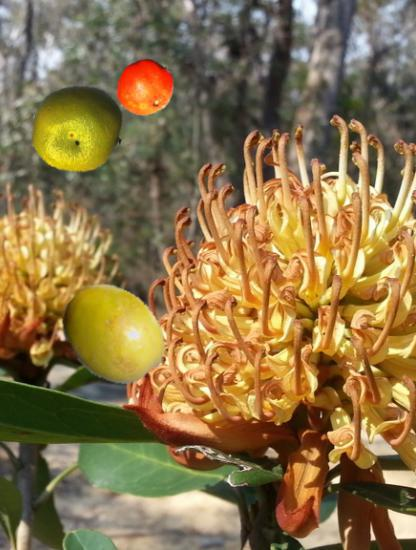Clementine: (115, 57, 176, 118)
Maracuja: (59, 280, 168, 389)
Pomelo: (32, 83, 123, 174)
